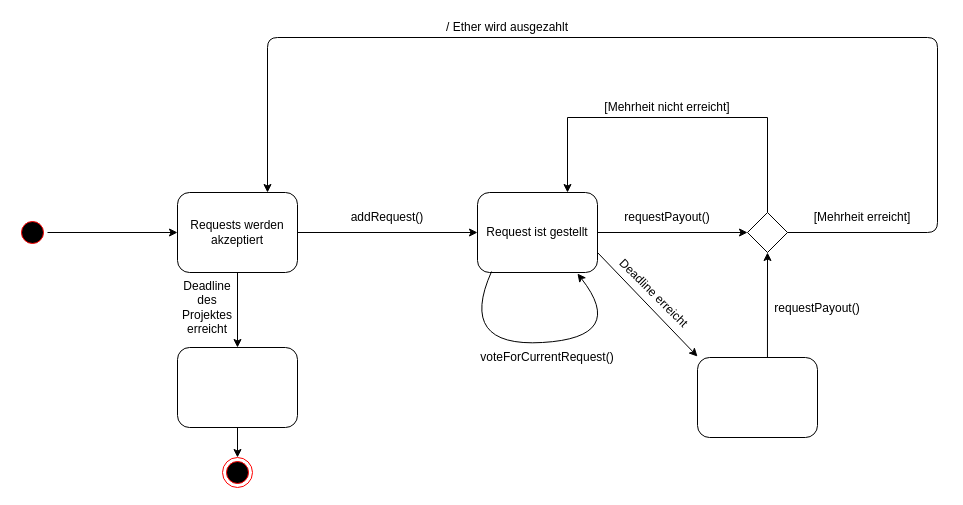
The diagram is 963 pixels wide and 505 high, and some of its shapes have lost their labels. Each missing label, with the box of its shape:
Keine Votes werden mehr angenommen: (696, 356, 818, 438)
Verleibender Ether kann zurückgezahlt werden: (176, 346, 298, 428)
